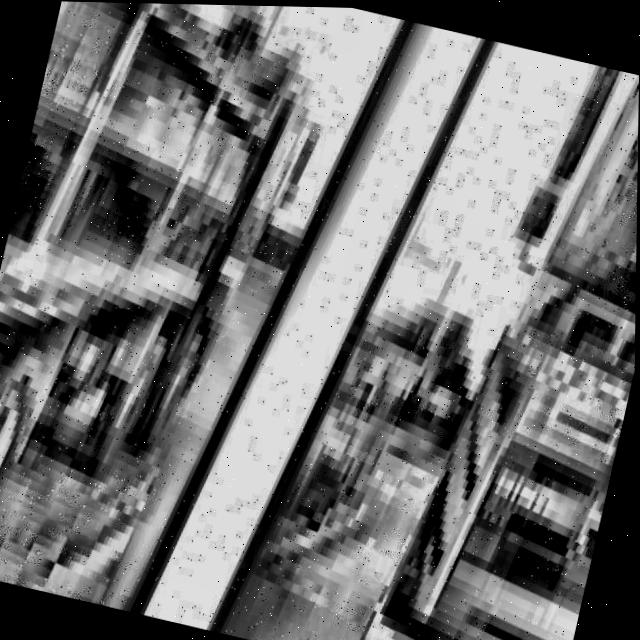dump_truck: (0, 0, 389, 640), (270, 17, 640, 640)
